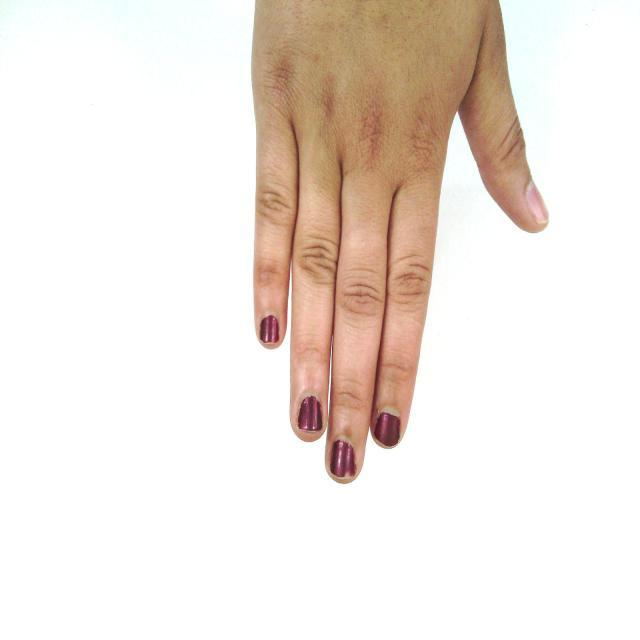Fingernail: (331, 435, 356, 478), (374, 407, 400, 447), (297, 391, 322, 431), (527, 182, 550, 223), (260, 312, 280, 344)
